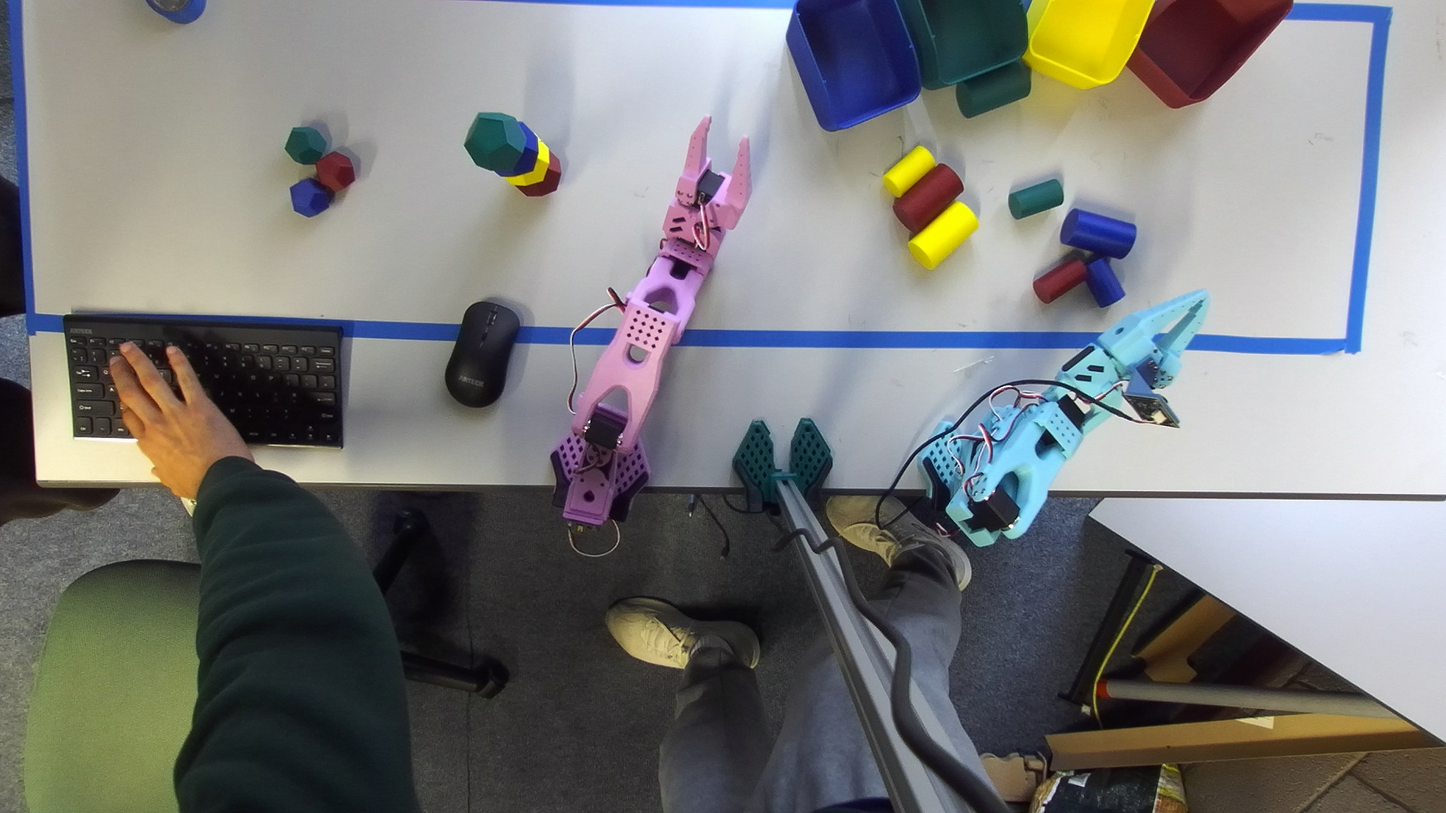bin: (1127, 0, 1293, 108), (786, 0, 920, 130), (1023, 0, 1154, 88), (898, 0, 1027, 88)
cylinder: (892, 163, 963, 236), (908, 201, 978, 269), (955, 59, 1031, 117), (1060, 208, 1136, 258), (881, 145, 936, 197), (1033, 257, 1086, 303), (1008, 178, 1063, 219), (1085, 257, 1124, 307)
gripper: (662, 116, 751, 276), (1095, 290, 1209, 391)
